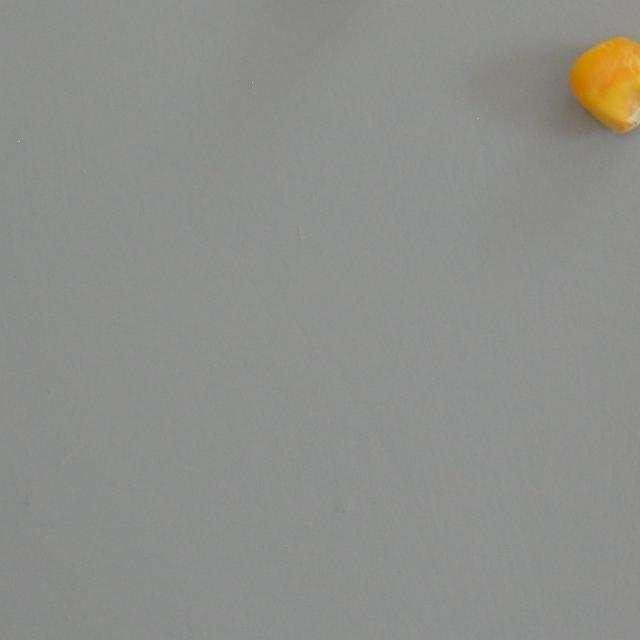pelicula: (566, 32, 640, 139)
